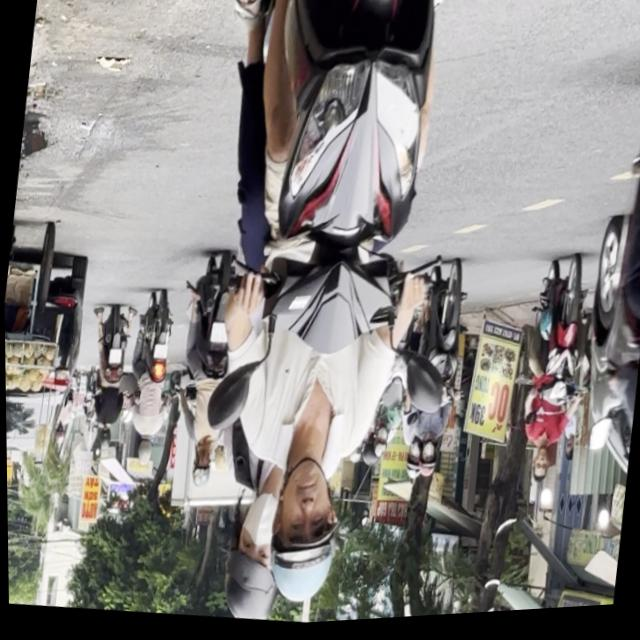helmet: (259, 458, 347, 614), (216, 512, 284, 626), (187, 447, 213, 495), (416, 444, 438, 485), (402, 447, 423, 487)
licenseplate: (160, 0, 469, 633), (508, 257, 601, 497), (161, 252, 250, 499), (387, 255, 477, 491)
motorcyclist: (528, 451, 553, 492)
nohelmet: (209, 325, 227, 349)
